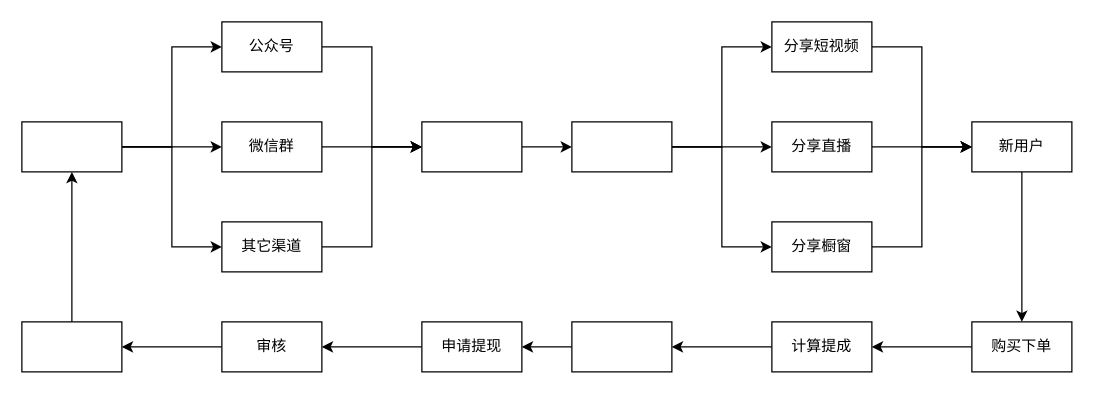
Some shapes in this 1094 by 394 pixel diagram are drawn without their labels. The centre of each missing label's shape, as x and y in pixels:
审核通过: (x=621, y=146)
意向用户: (x=71, y=146)
申请分享员: (x=471, y=146)
财务打款: (x=71, y=346)
账期: (x=621, y=346)
